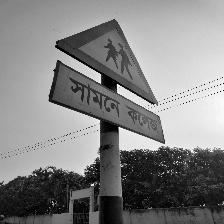College-in-front: (35, 6, 194, 160)
